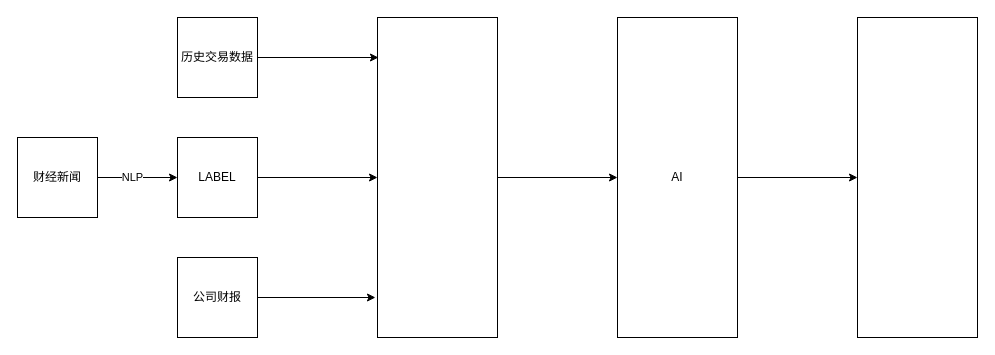
Image size: 995x355. Some labels were removed from this diagram. The box of each missing label's shape, as (x1, y1, x2, y2) in pixels:
DATA SET: (376, 16, 498, 338)
预测结果: (856, 16, 978, 338)
